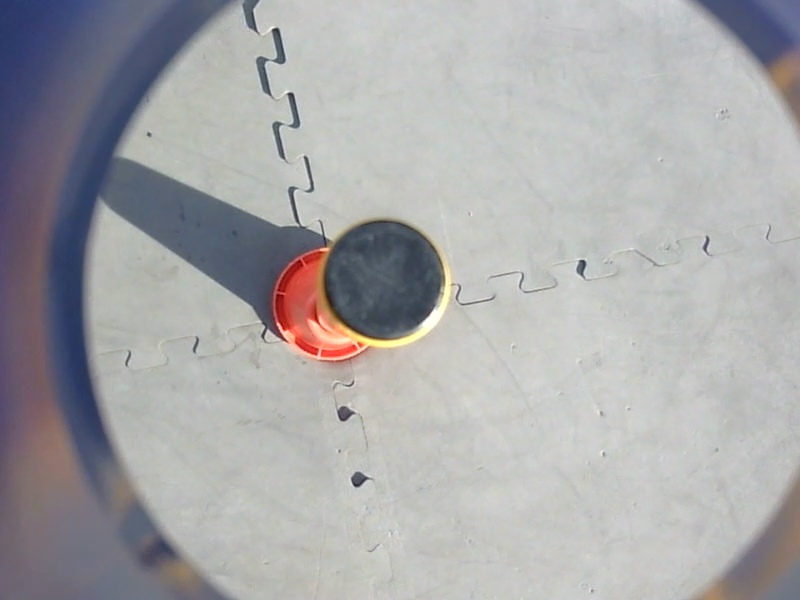tip: (313, 214, 457, 359)
